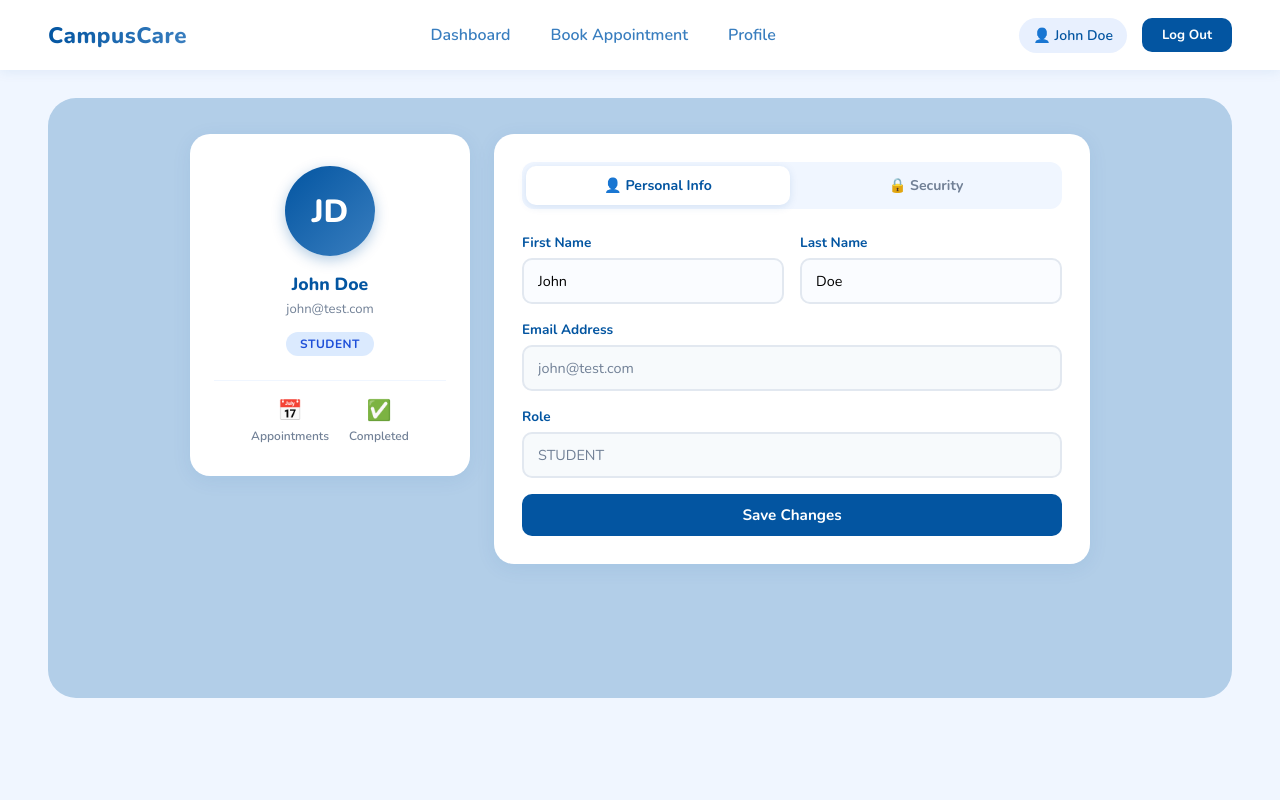
Scenario: shows password strength indicator
The width and height of the screenshot is (1280, 800).
Expected: the heading "John Doe" is shown, x1=292 y1=272 x2=368 y2=296
# Click the Security tab
Click the button "🔒 Security". click: (926, 186)
box: x1=794 y1=166 x2=1058 y2=205
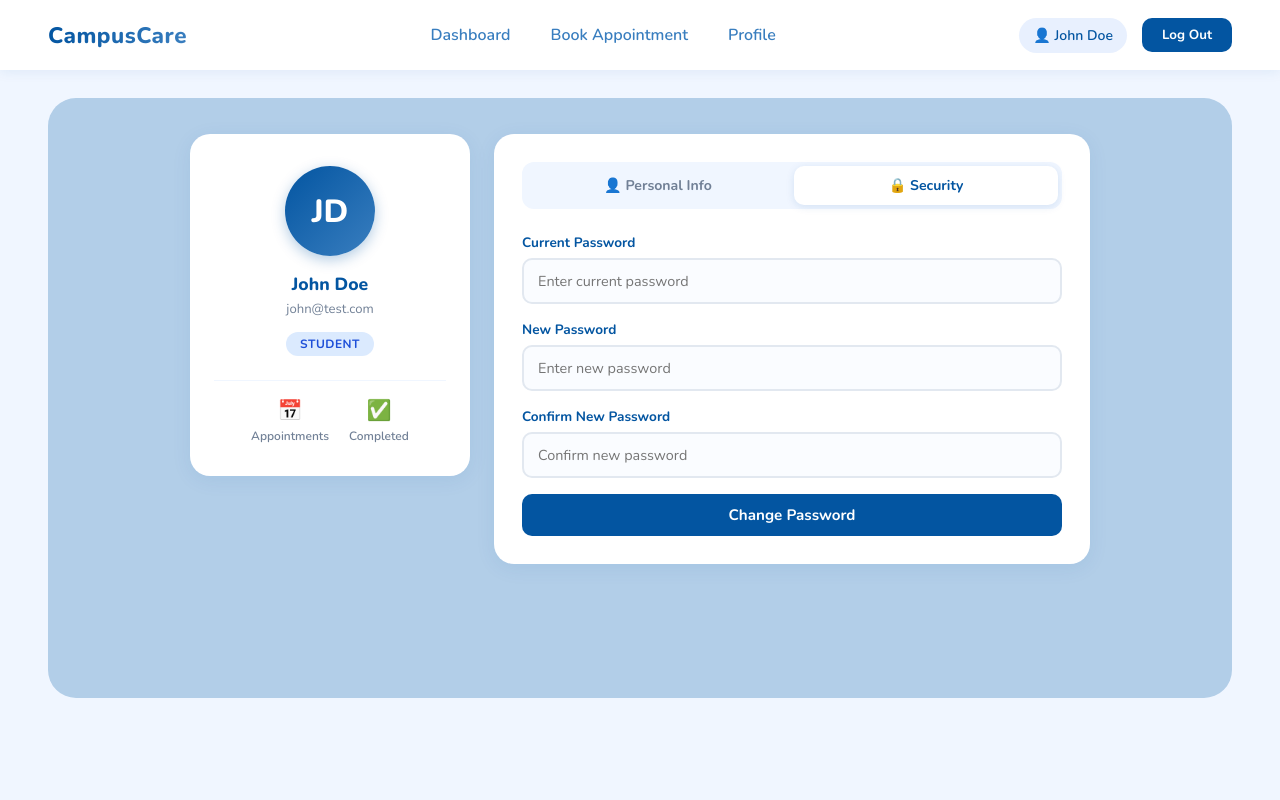
# Now find the new password field
Type "StrongPass123!" into the password field with placeholder "Enter new password". click: (792, 368)
box: x1=522 y1=345 x2=1062 y2=391
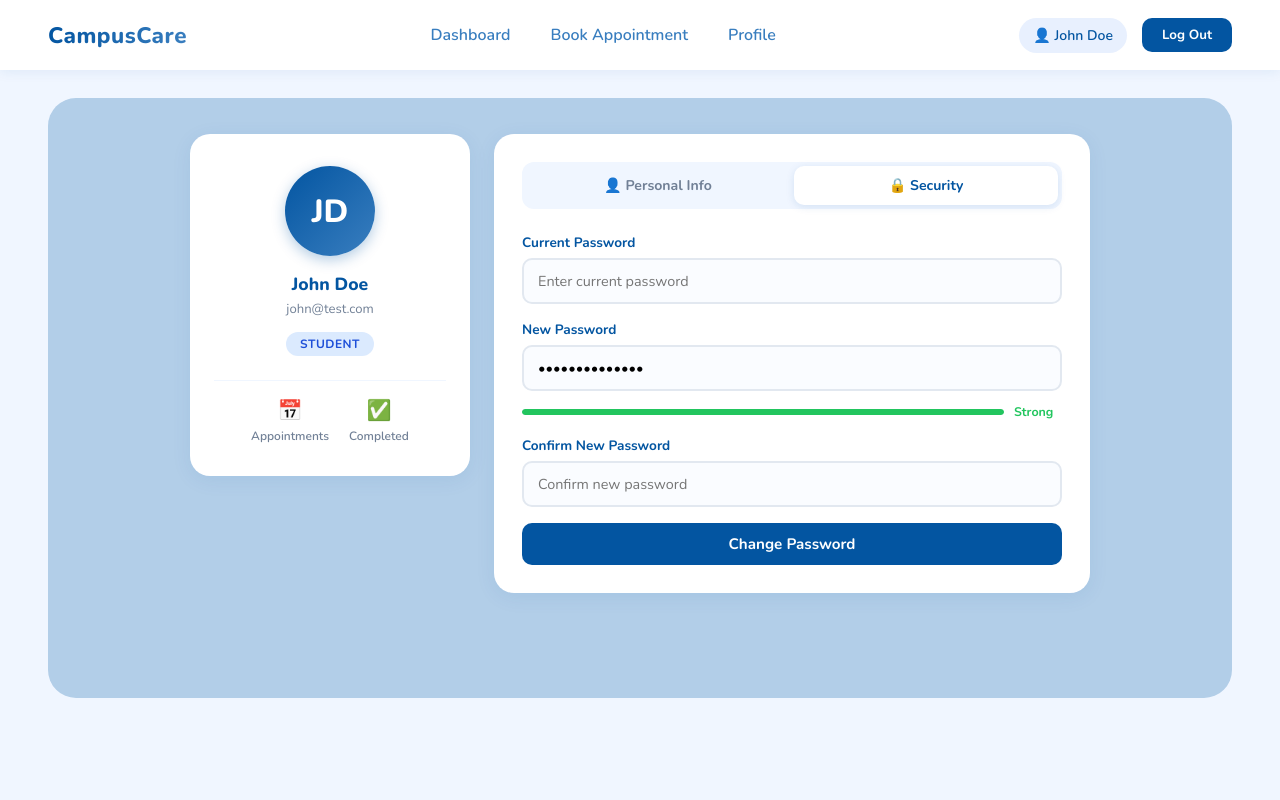
Expected: the text "Strong" is shown, x1=1014 y1=403 x2=1053 y2=420
